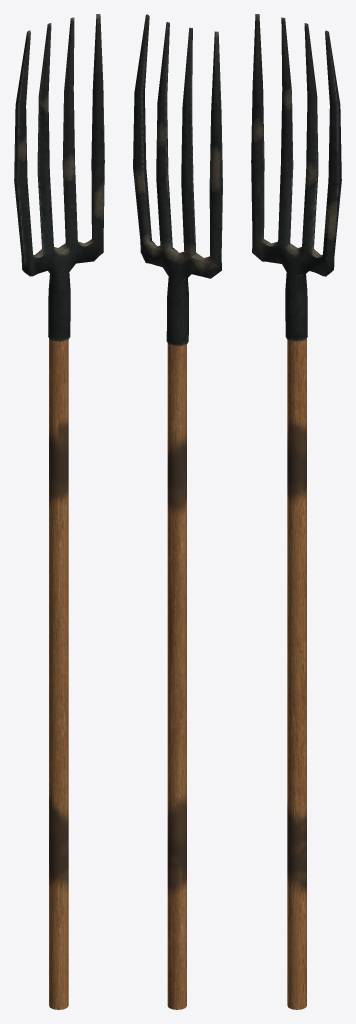
File: FarmEquip_GiantFork.fbx
3 views of the same model, side by side, from view 1: azimuth 30°, elevation 25°; view 2: azimuth 150°, elevation 25°; view 3: azimuth 330°, elevation 25° (orthographic).
Parts seen in each view (by area): view 1: FarmEquip_GiantFork; view 2: FarmEquip_GiantFork; view 3: FarmEquip_GiantFork.
Boxes of the visible parts, x1,y1,x2,y2 form: FarmEquip_GiantFork: (14,14,104,1009); FarmEquip_GiantFork: (133,14,222,1009); FarmEquip_GiantFork: (251,14,341,1009).
Bounding box in the file's own units: 0.1434 × 1.54 × 0.035.
